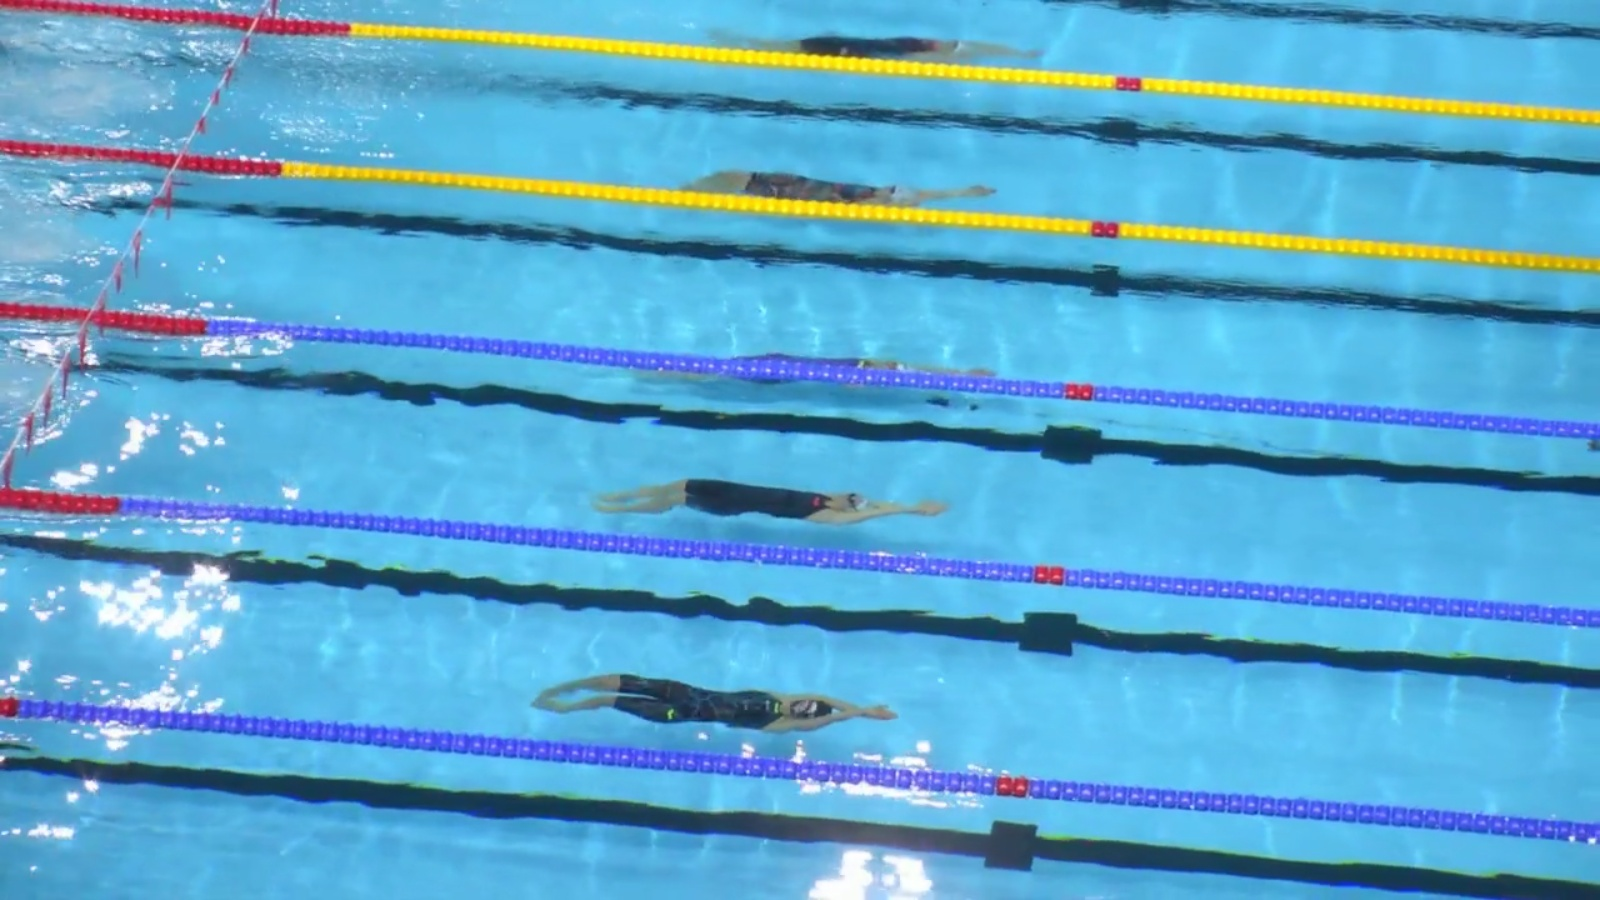swimmerw: (523, 667, 901, 745), (589, 473, 943, 540), (670, 165, 997, 231), (638, 349, 1002, 407), (714, 29, 1043, 65)
